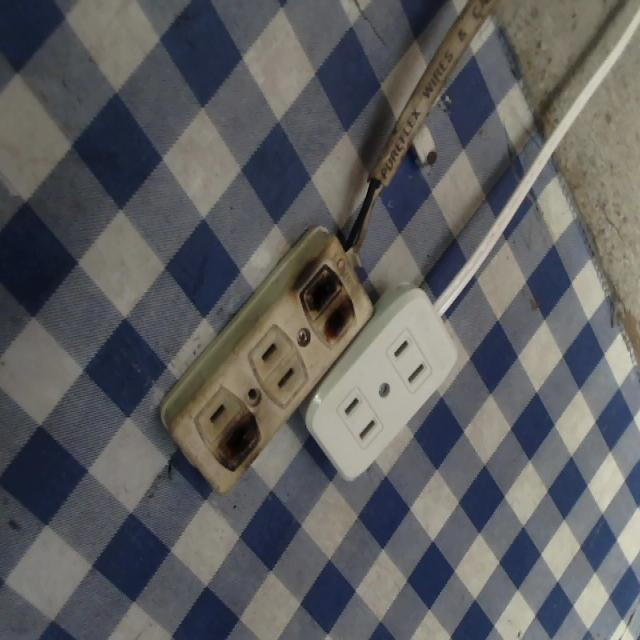-: (295, 261, 360, 348), (212, 408, 264, 475)
